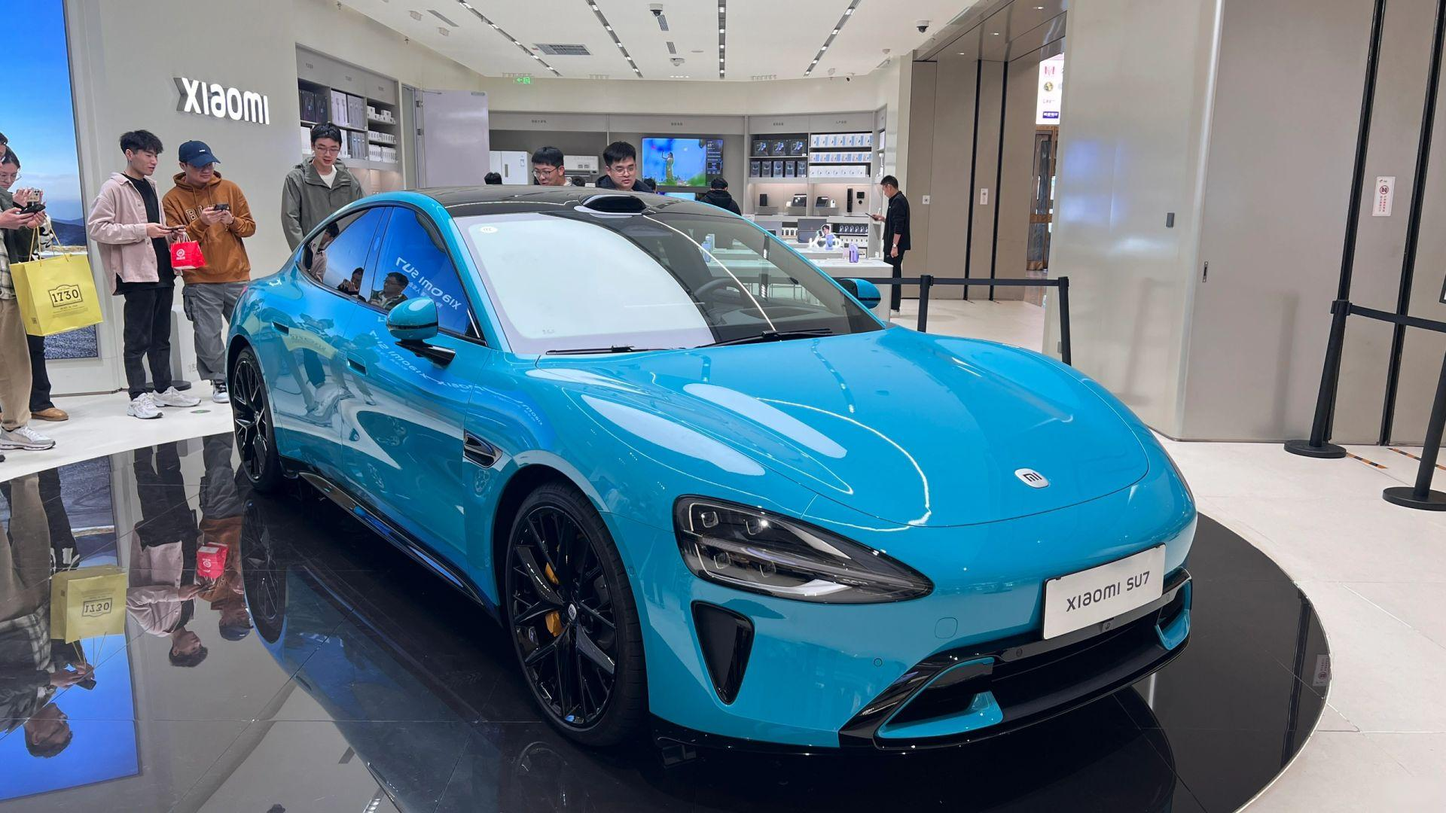su7: (219, 196, 1215, 766)
